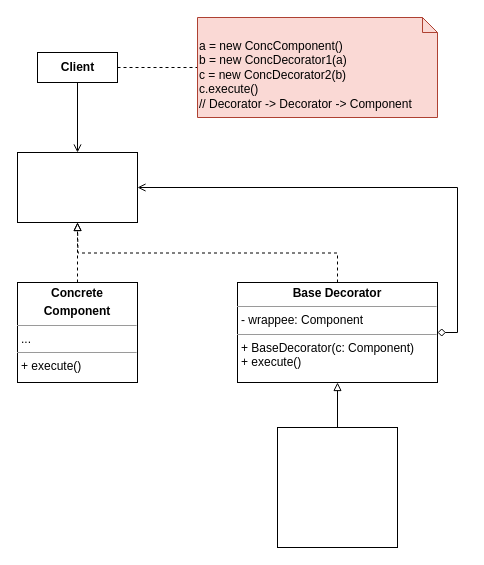
Image size: 484x565. Some labels were removed from this diagram. Here are the shapes that lost their labels. From the top down, the centre of each, then its label:
point (77, 187): <<Interface>> Component + execute()
point (337, 487): Concrete Decorators ... + execute() + extra()
